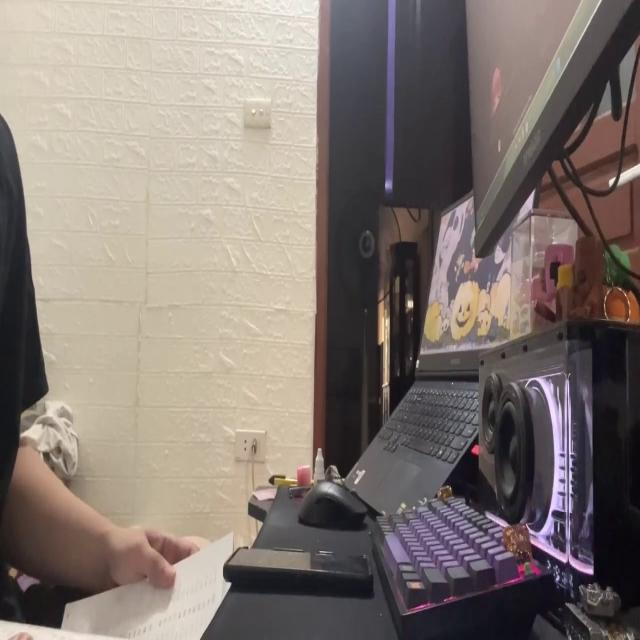book: (0, 530, 232, 640)
laptop: (345, 175, 536, 508), (460, 0, 639, 253)
phone: (222, 539, 376, 601)
student: (0, 111, 200, 638)
